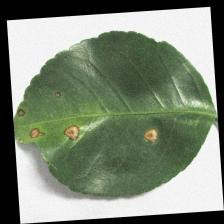canker: (18, 85, 167, 166)
